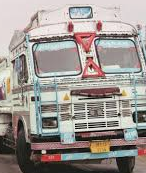truck: (1, 4, 146, 172)
